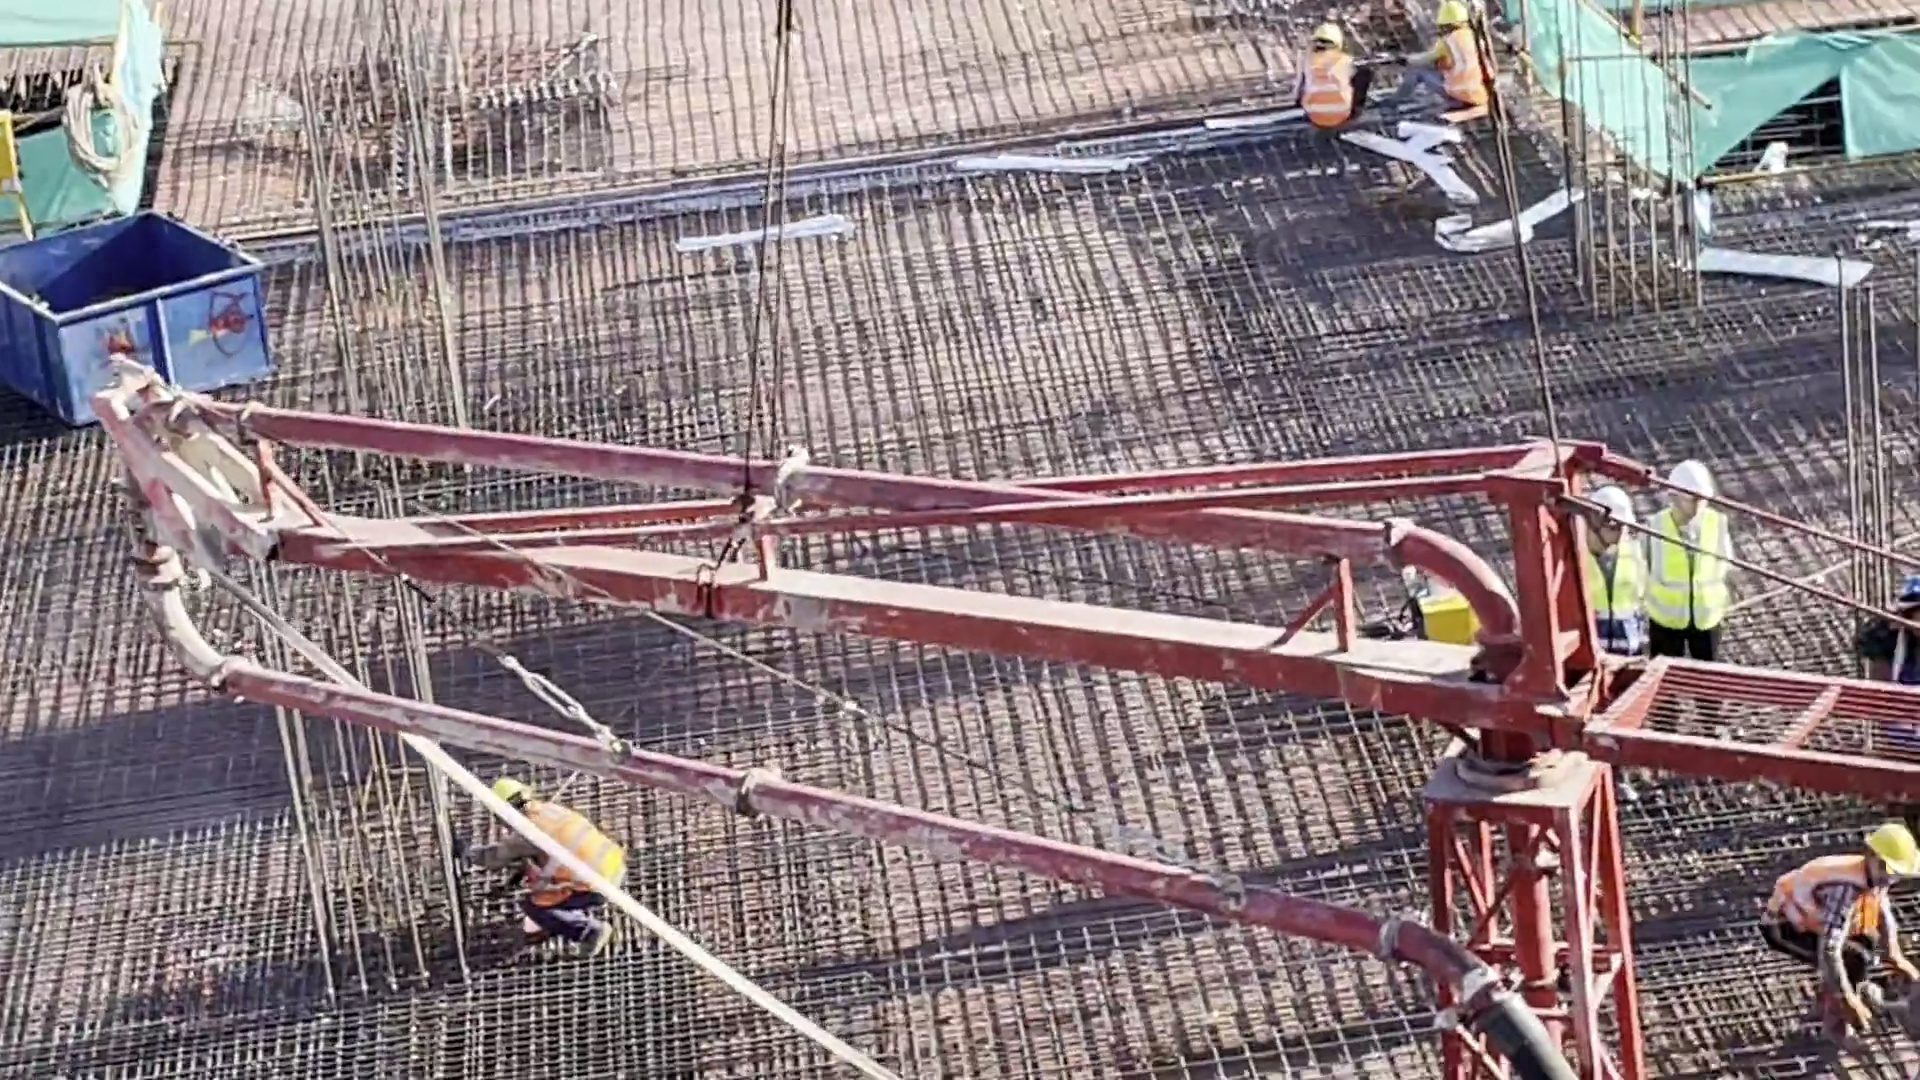ebox: (1, 107, 29, 197)
helmet: (1861, 817, 1916, 872), (1671, 460, 1721, 502), (1588, 492, 1632, 530), (1438, 6, 1475, 33), (496, 779, 532, 804), (1309, 21, 1347, 44), (1900, 573, 1920, 592)
hopper: (1, 216, 278, 406)
person: (1747, 815, 1920, 1044), (448, 771, 631, 963), (1532, 474, 1656, 667), (1640, 454, 1740, 682), (1384, 5, 1509, 131), (1853, 576, 1920, 747), (1290, 21, 1371, 141)
vest: (1649, 510, 1743, 625), (513, 807, 627, 902), (1773, 856, 1871, 946), (1865, 620, 1920, 736), (1589, 552, 1641, 647), (1439, 34, 1482, 95), (1305, 56, 1350, 114)
